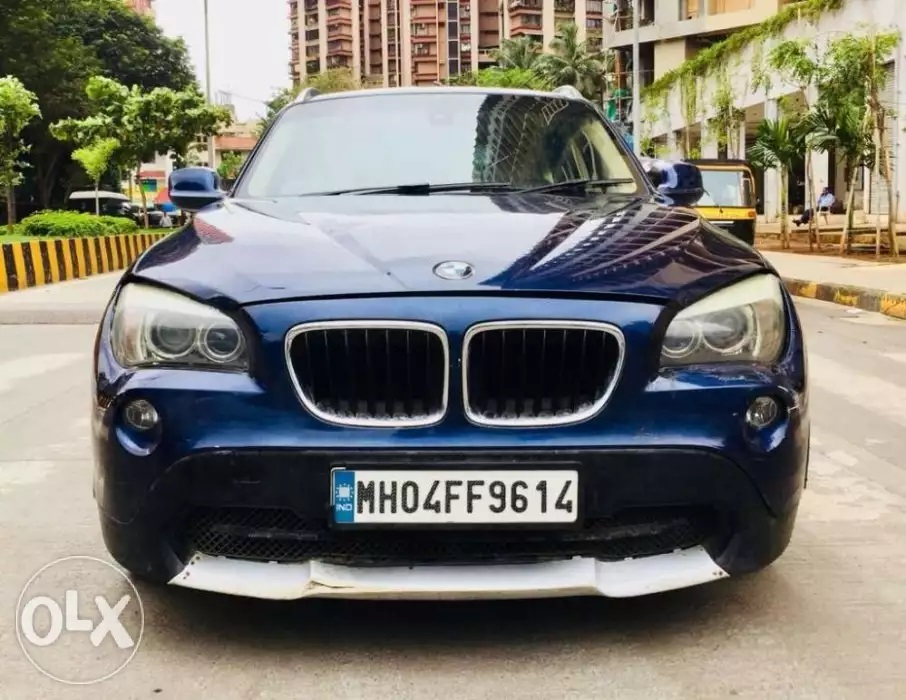licenseplate: (327, 462, 586, 528)
